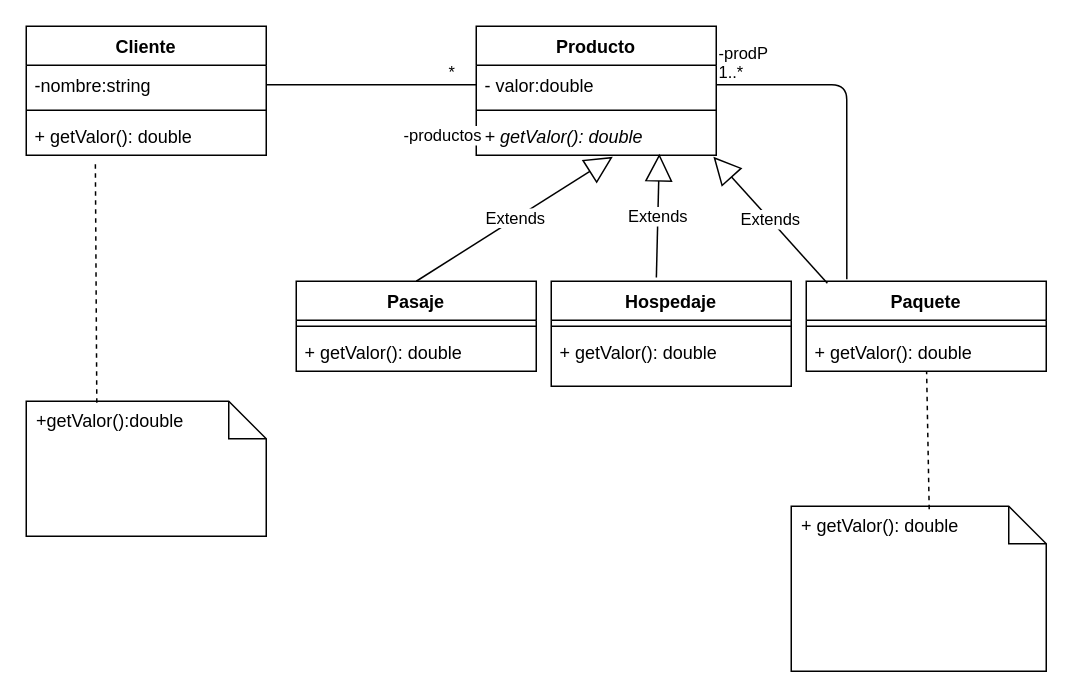
This 1073x698 diagram has some shape labels left out. Each missing label, with the centre of its shape:
for(Producto p:prodP) total+=p.getValor() return total-total*5/100;: (x=918, y=588)
for(Producto p:productos) total+=p.getValor(): (x=145, y=468)
